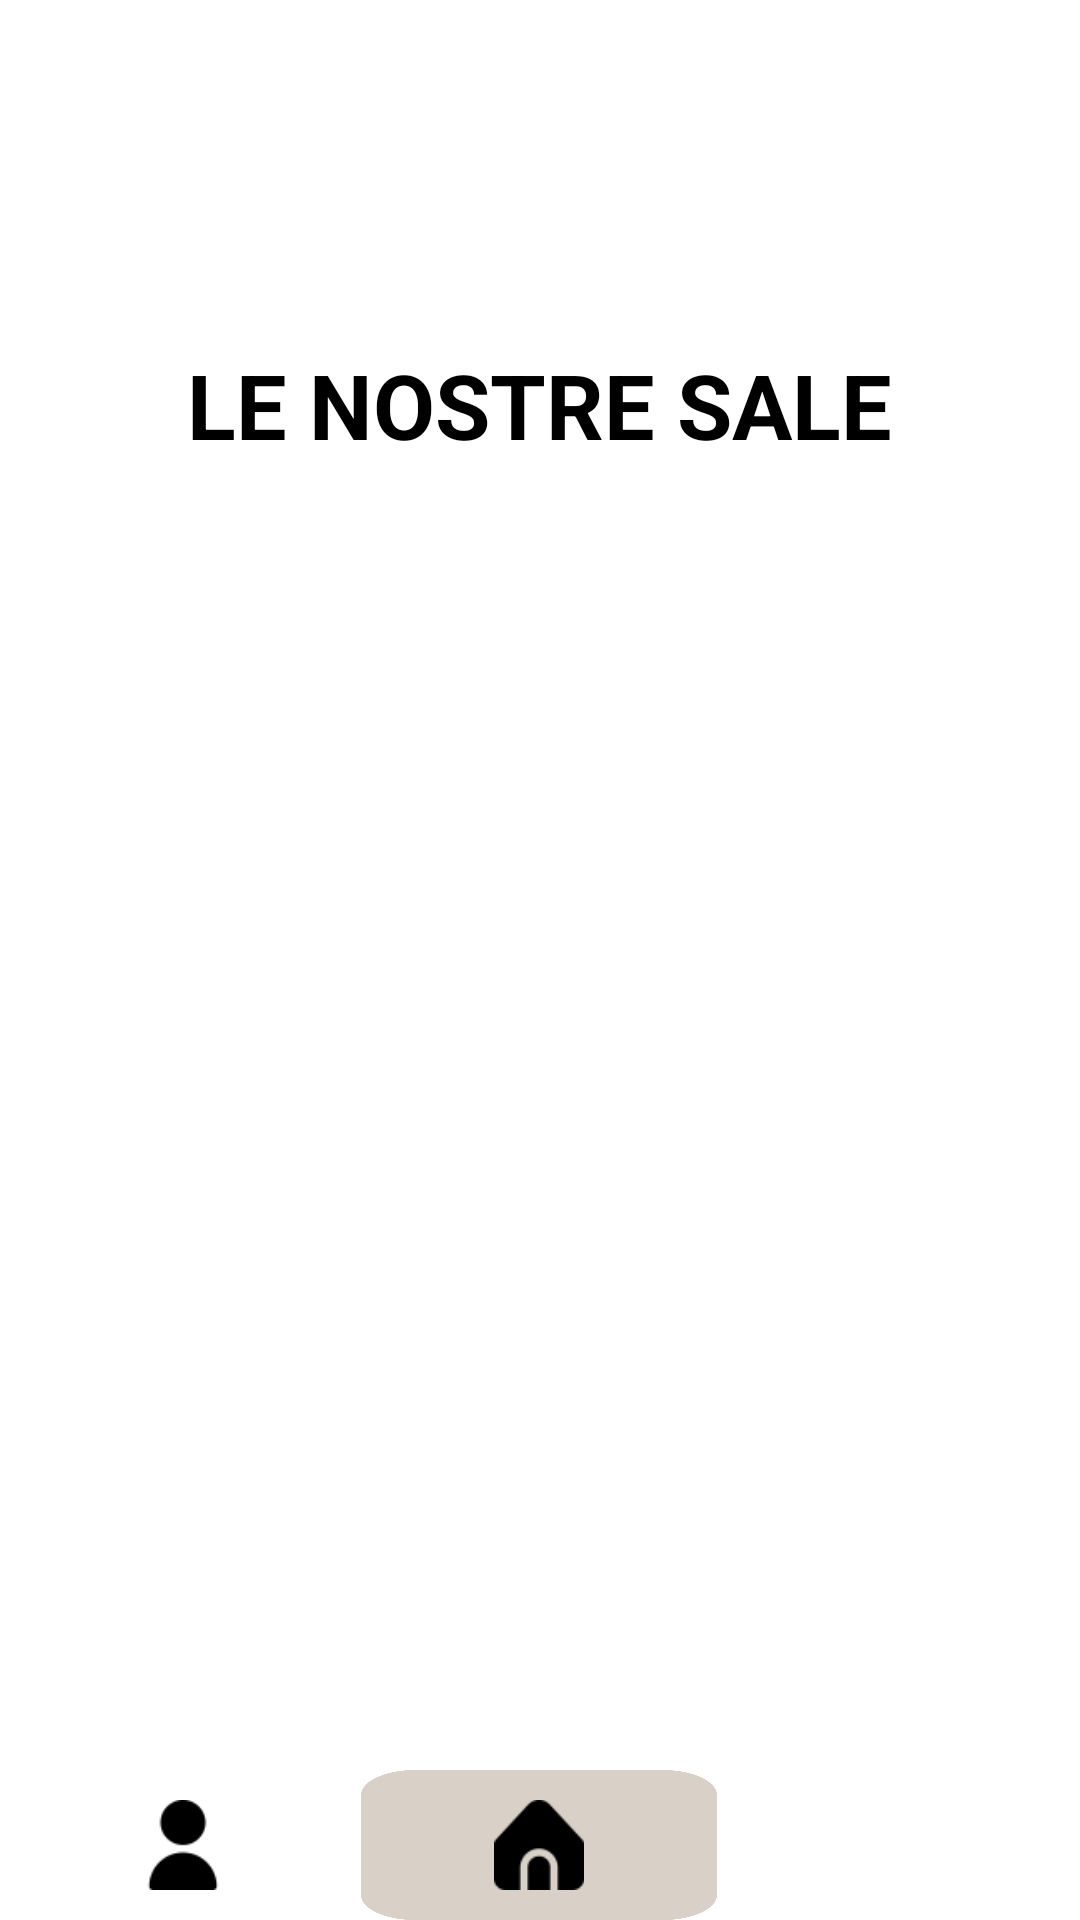

Where icons sit on this 1080 x 1920 app screen, as (x1, y1, x2, y2):
home: (361, 1770, 717, 1920)
profile: (148, 1800, 218, 1890)
